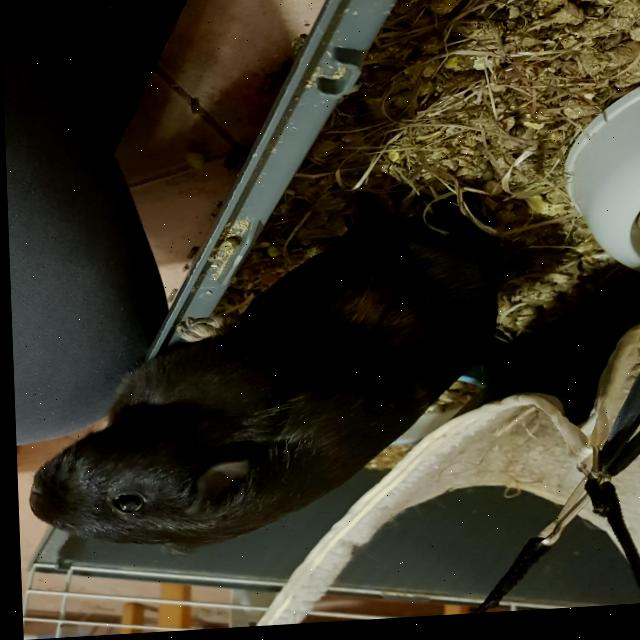guinea pig: (13, 196, 508, 563)
